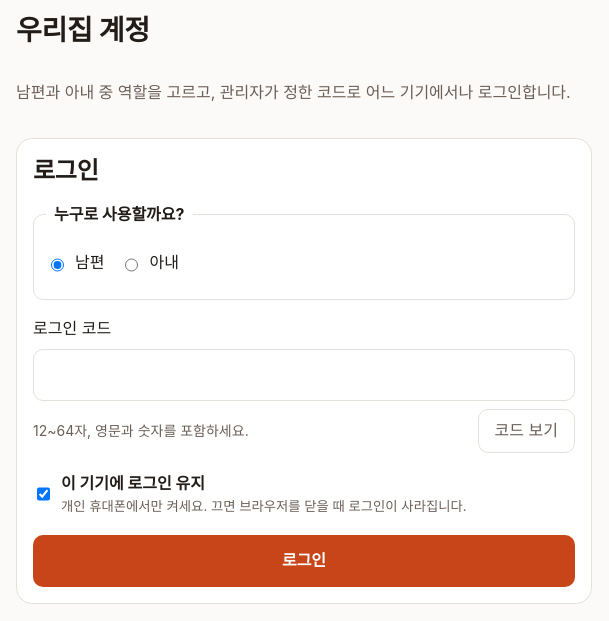
logs in as either fixed role and keeps shared-device sessions in memory
Expected: the heading "로그인" is shown, [33,156,98,185]
Click the radio button labelled "아내" at (132, 265), box [126,243,138,287]
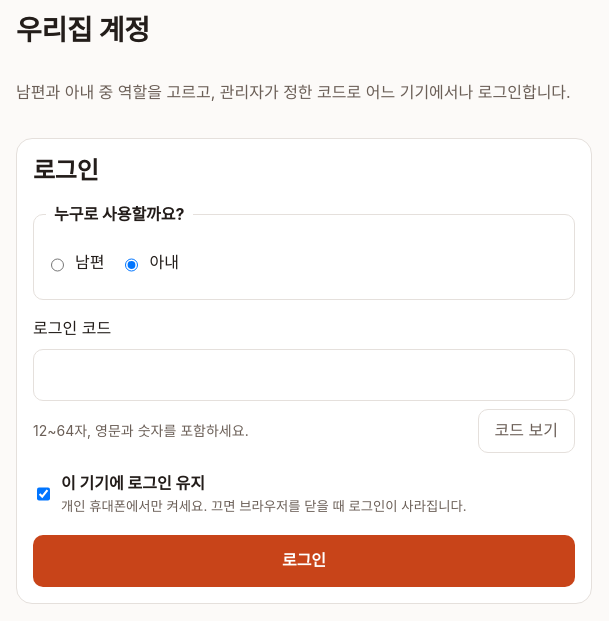
Type "WifeCode2026" into the password field labelled "로그인 코드" at (304, 375), box [33,349,575,401]
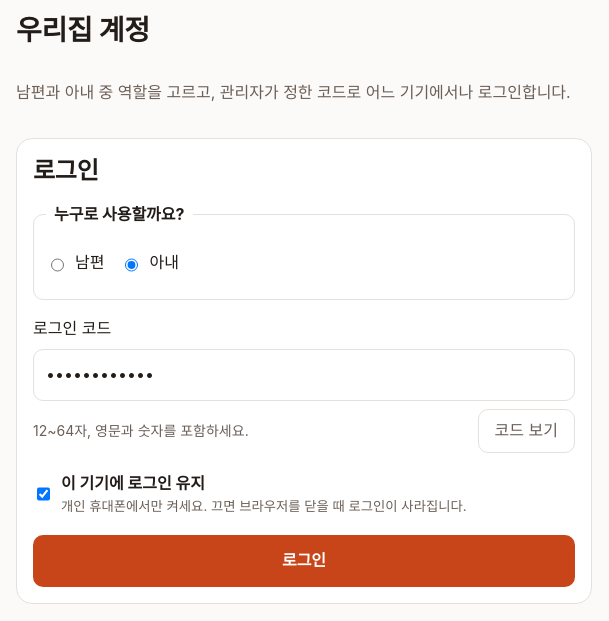
Click the checkbox labelled "이 기기에 로그인 유지 개인 휴대폰에서만 켜세요. 끄면 브라우저를 닫을 때 로그인이 사라집니다." at (44, 494), box [37,472,50,516]
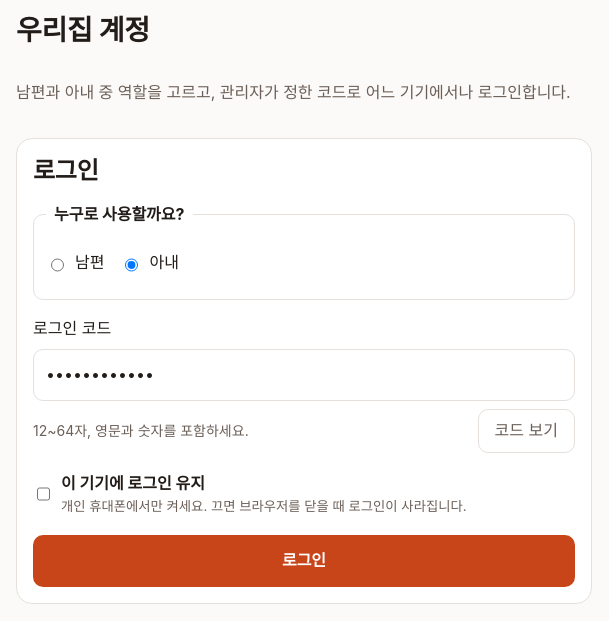
Click the button "로그인" at (304, 561), box [33,535,575,587]
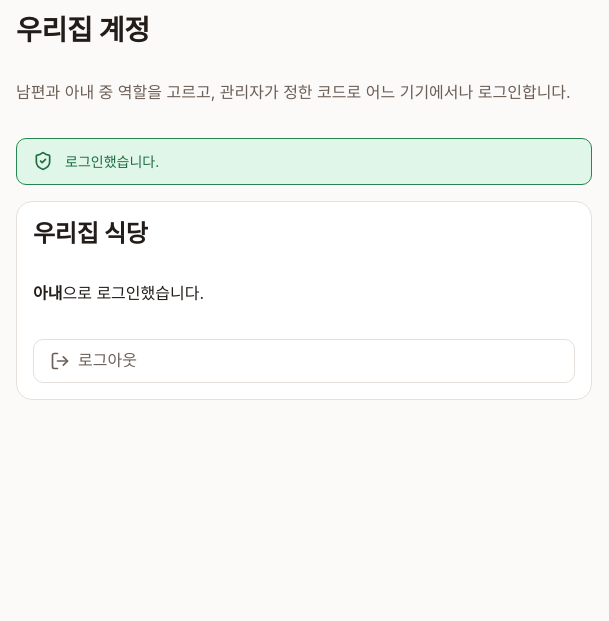
Expected: the text "아내" is shown, [33,283,62,303]
